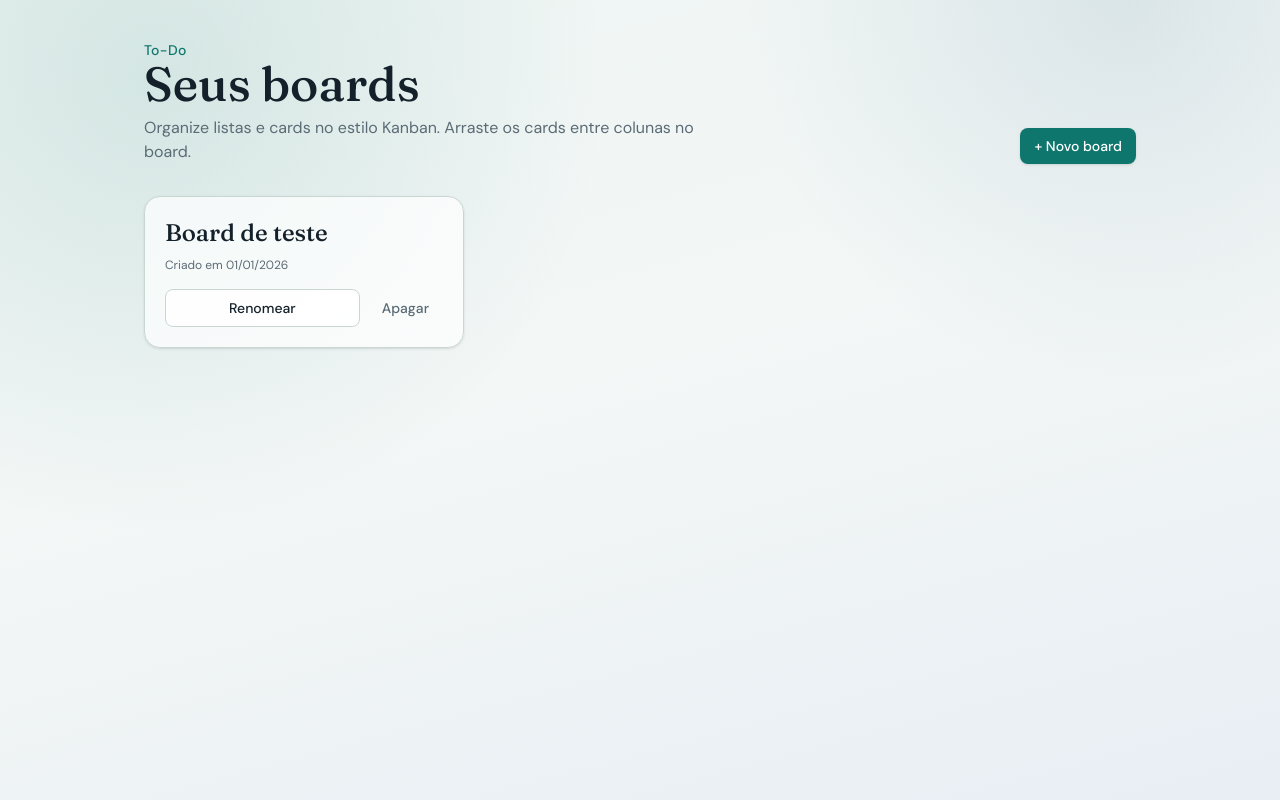
BoardsPage › renames a board
Check: the heading "Board de teste" is shown, box [165, 218, 328, 247]
Click the button "Renomear" at (262, 308), box [165, 289, 360, 327]
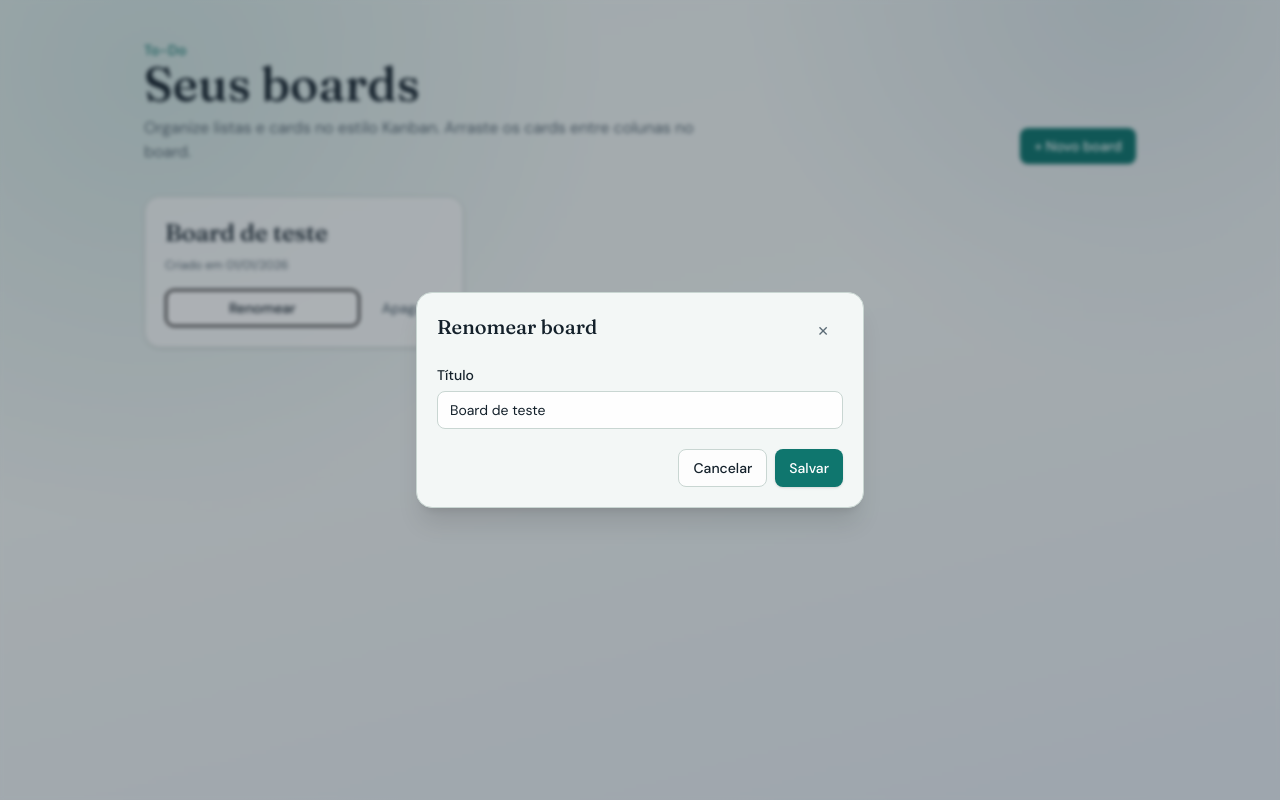
Replace the text in the field labelled "Título" with "Board renomeado" at (640, 410), box [437, 391, 843, 429]
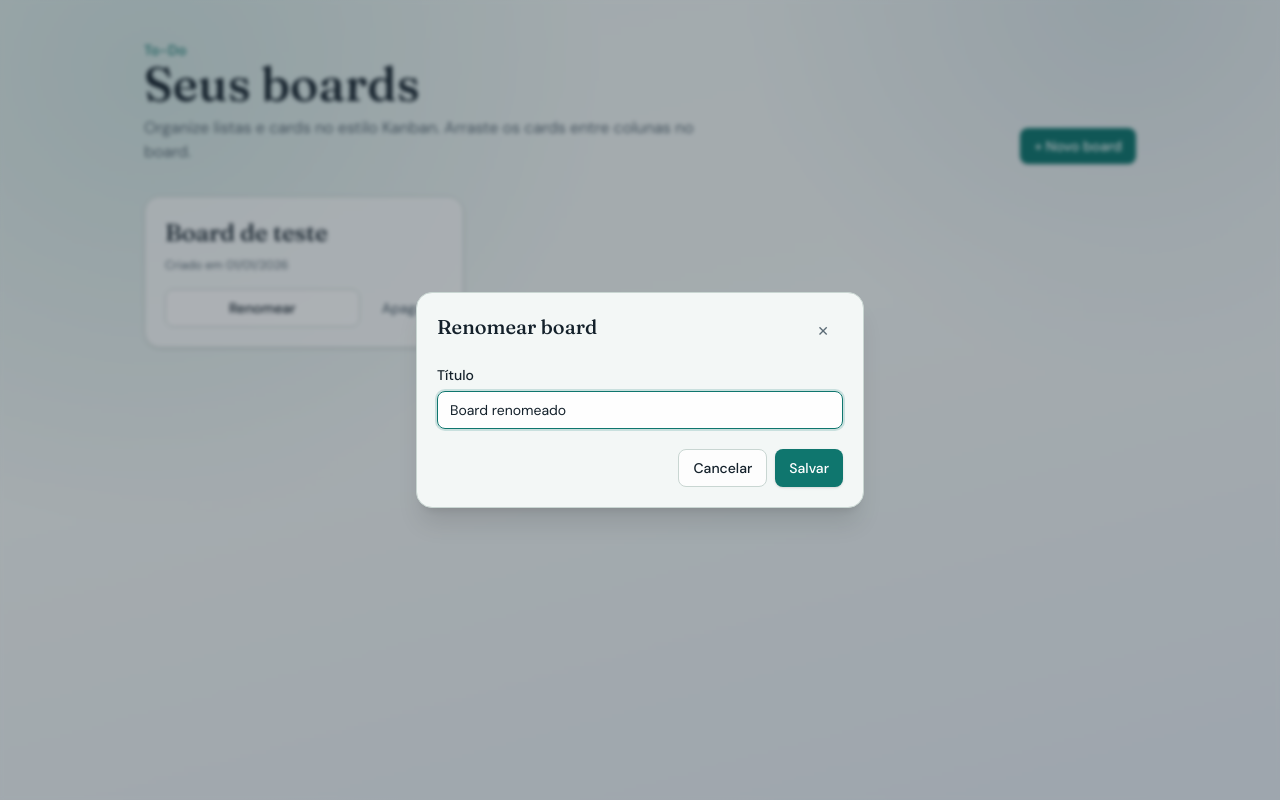
Click the button "Salvar" at (809, 468), box [775, 449, 843, 487]
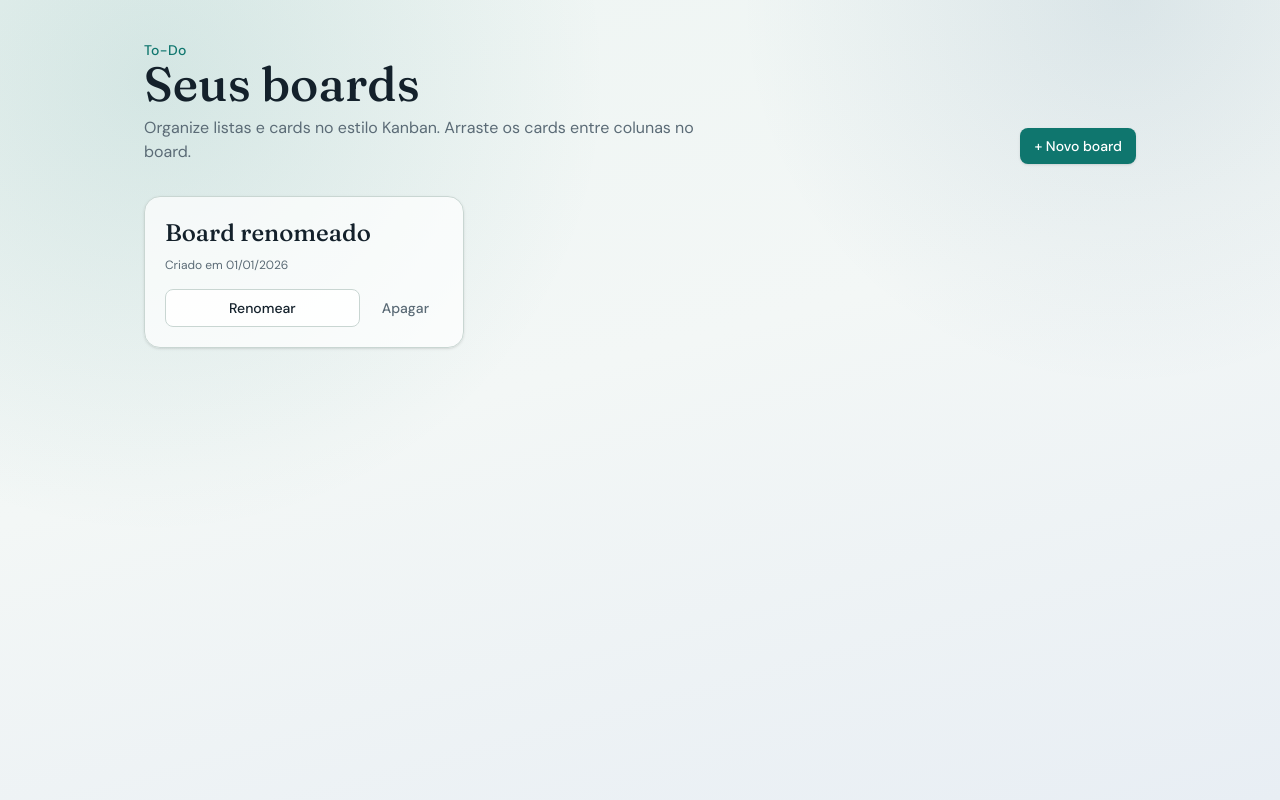
Check: the heading "Board renomeado" is shown, box [165, 218, 371, 247]
